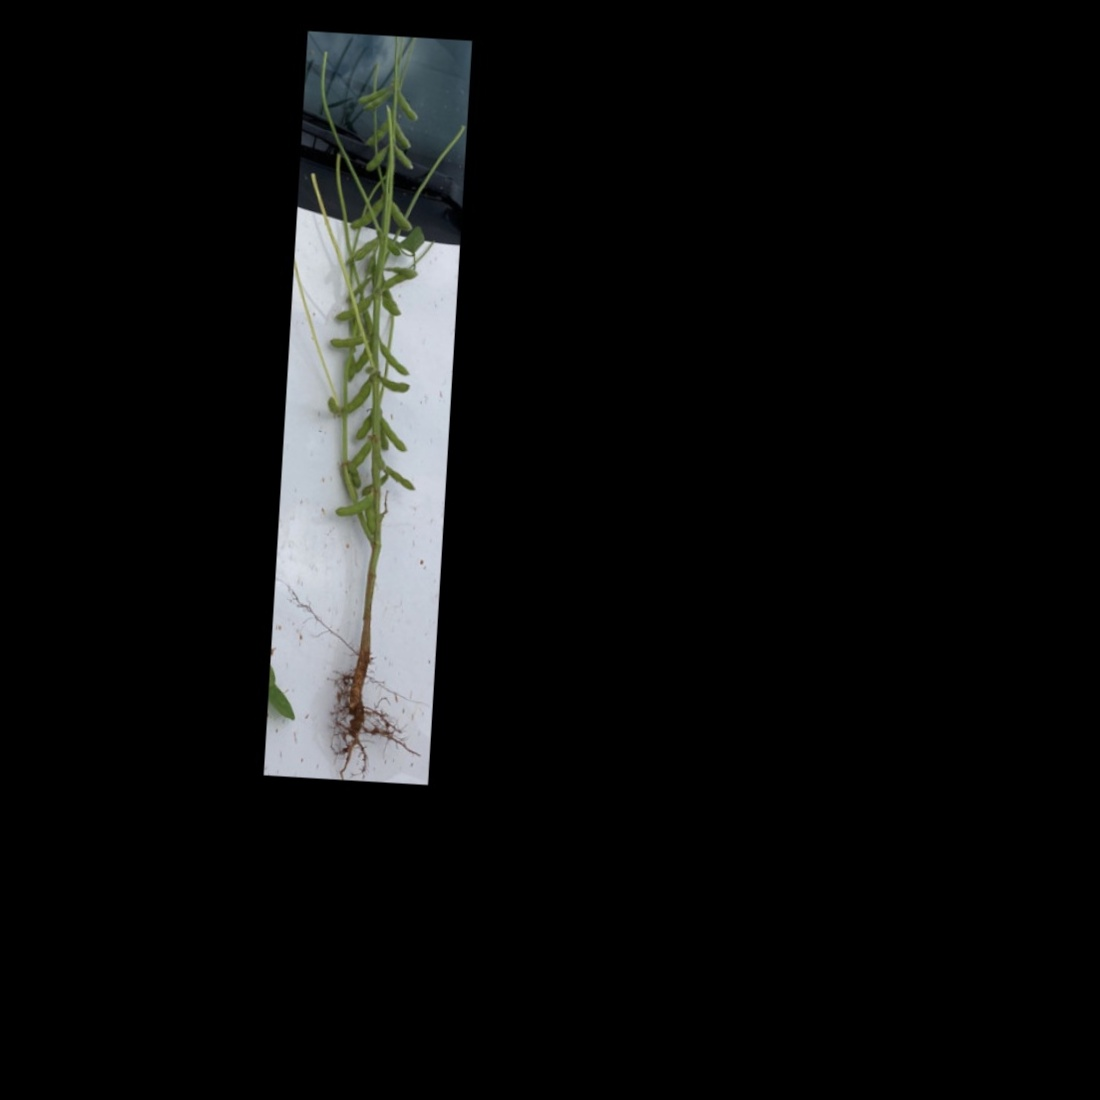pod: (330, 292, 376, 326), (349, 192, 385, 234), (343, 372, 375, 417), (375, 416, 411, 454), (376, 343, 411, 377), (343, 233, 379, 266), (373, 464, 419, 490), (333, 489, 372, 519), (355, 80, 396, 107), (341, 437, 374, 471), (363, 140, 392, 177), (388, 200, 417, 235), (395, 85, 420, 124), (359, 88, 395, 114), (378, 373, 413, 396), (363, 119, 389, 149), (389, 120, 412, 150), (327, 334, 368, 352), (392, 145, 418, 170), (342, 460, 364, 489)
soy: (287, 53, 448, 742)
